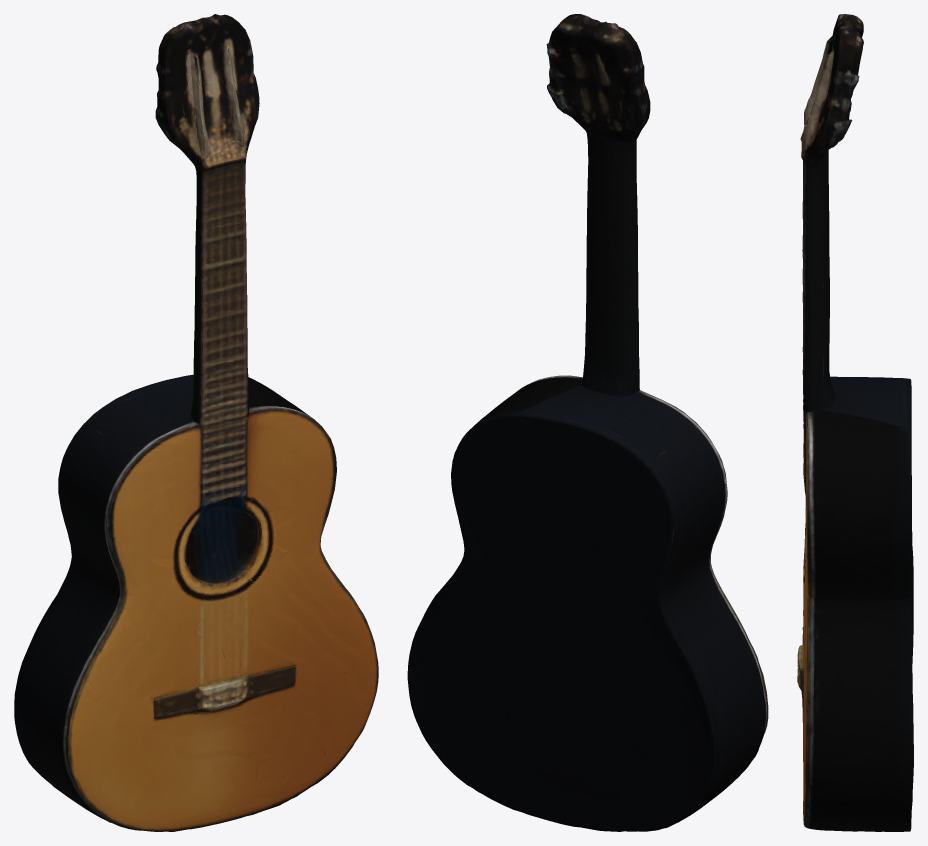
Rendered from Acoustic_Guitar.glb.
The picture shows the model from 3 angles, left to right: view 1: azimuth 30°, elevation 25°; view 2: azimuth 150°, elevation 25°; view 3: azimuth 270°, elevation 25°; orthographic projection.
Parts seen in each view (by area): view 1: world; view 2: world; view 3: world.
Part boxes in pixels (left/top/right/bottom): world: left=14, top=14, right=378, bottom=831; world: left=407, top=14, right=768, bottom=831; world: left=797, top=14, right=913, bottom=831.
Bounding box in the file's own units: 0.4189 × 0.9985 × 0.1357.
1 material, 1 textured.
